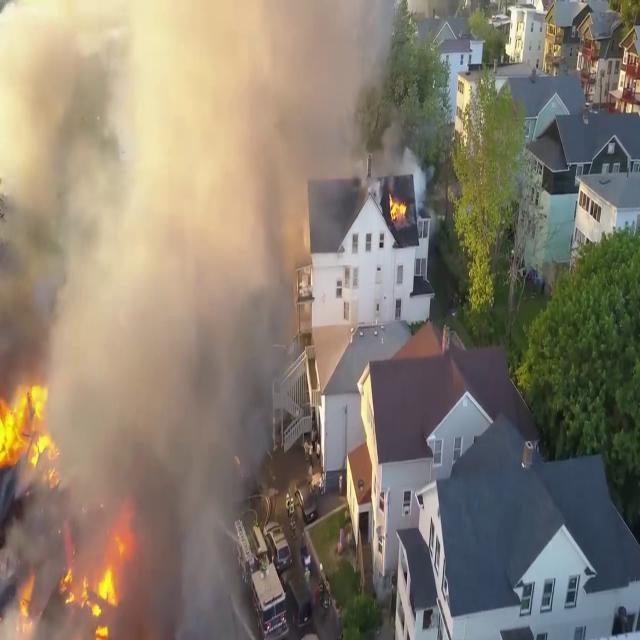Fire: (62, 534, 135, 637), (0, 374, 62, 490), (387, 190, 409, 223)
Smoke: (0, 0, 309, 549), (243, 0, 421, 196)
